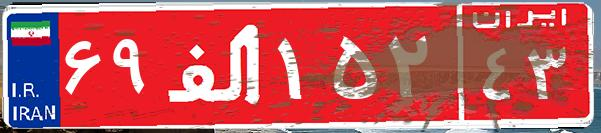1: (273, 28, 330, 110)
2: (385, 28, 445, 110)
3: (525, 38, 570, 115)
4: (475, 38, 525, 113)
5: (330, 28, 385, 110)
6: (57, 26, 110, 107)
9: (110, 28, 158, 105)
الف: (158, 15, 273, 115)
